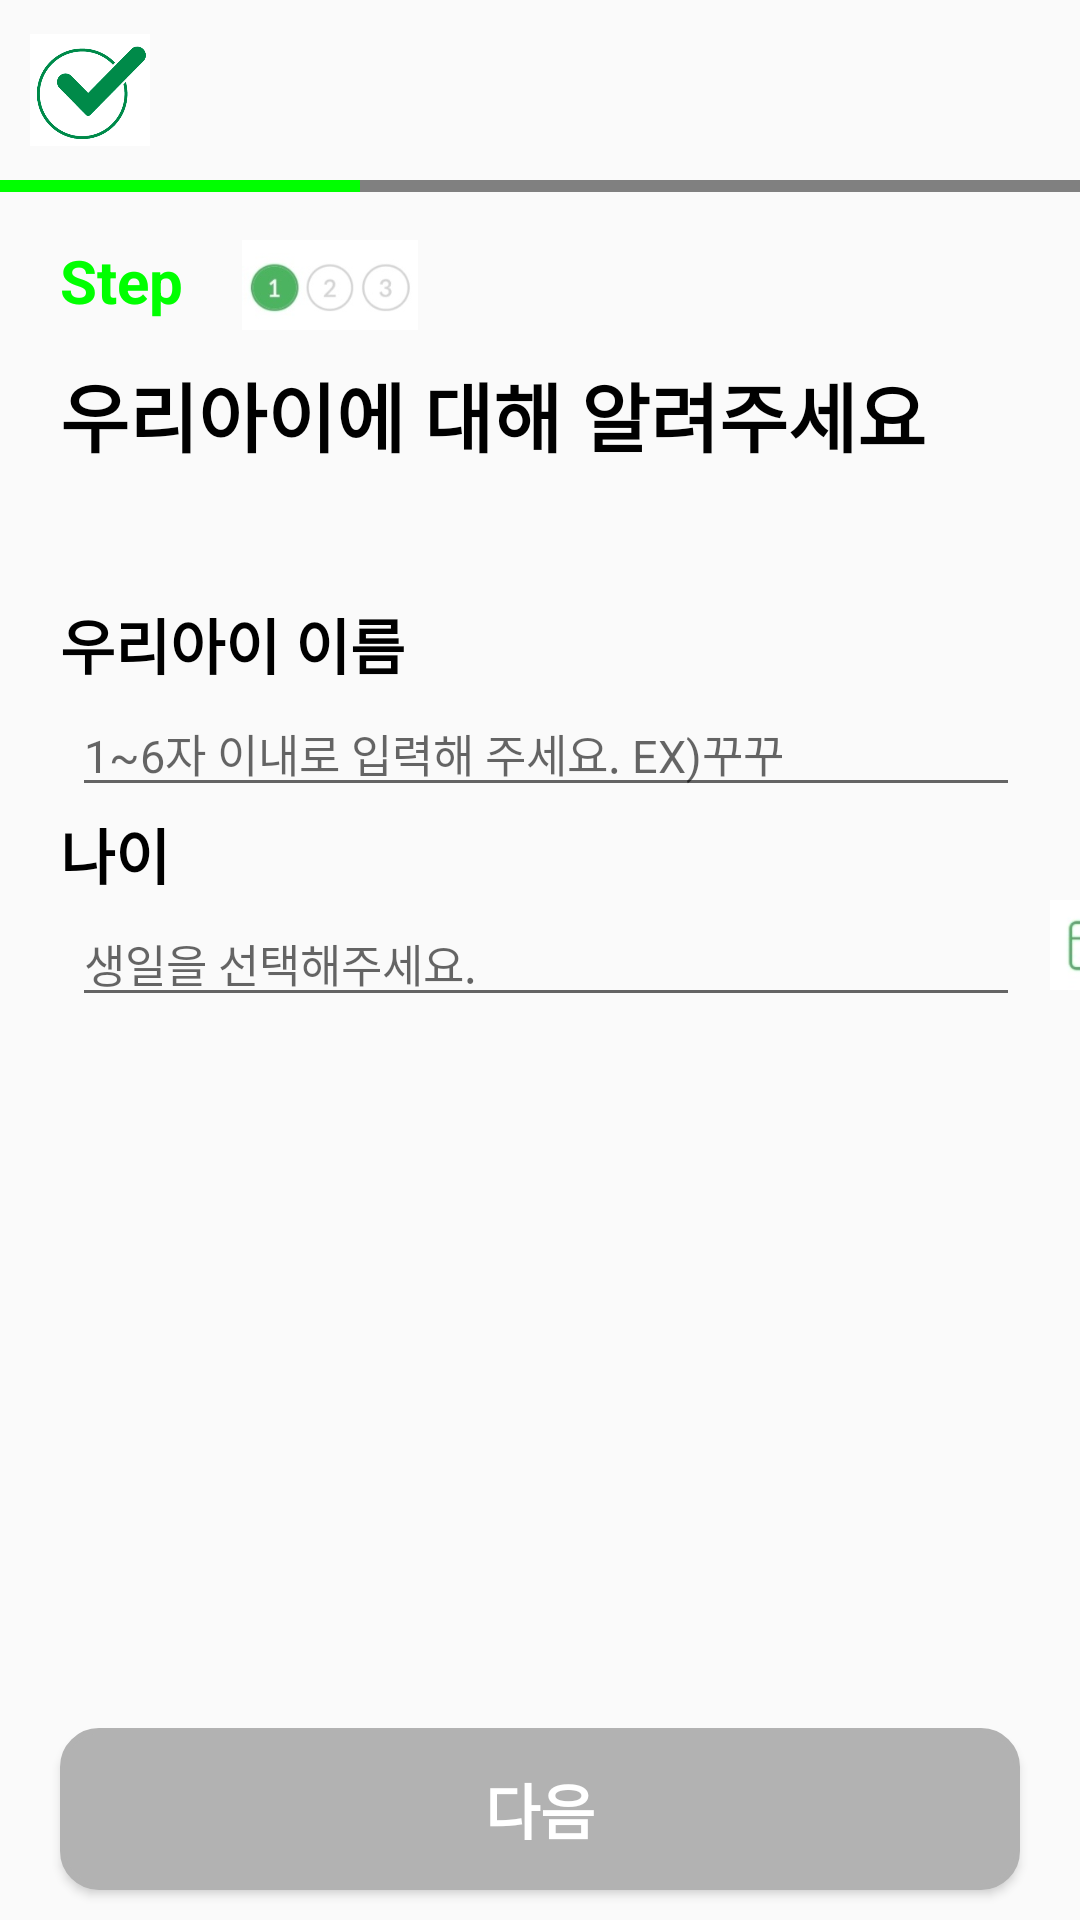

Icons on this 1080px×1920px Android screen, each with its box as [x1=x1, y1=y1, x2=x2, y2=y2]:
check: [x1=37, y1=46, x2=146, y2=139]
